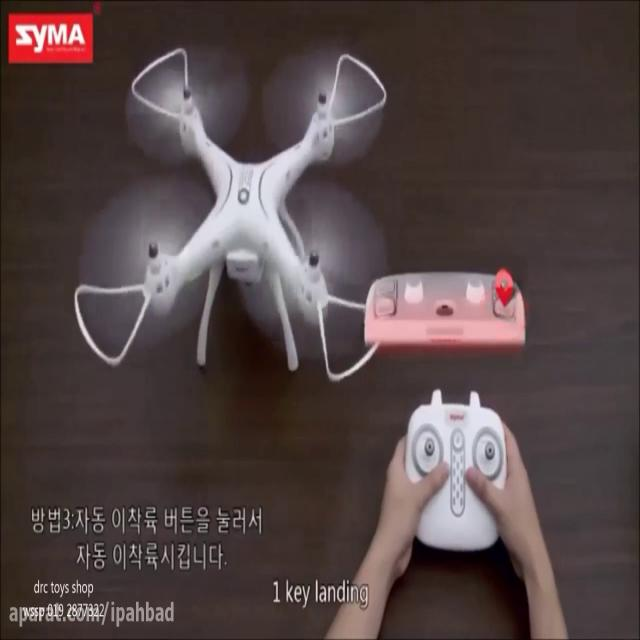drone: (71, 45, 390, 383)
